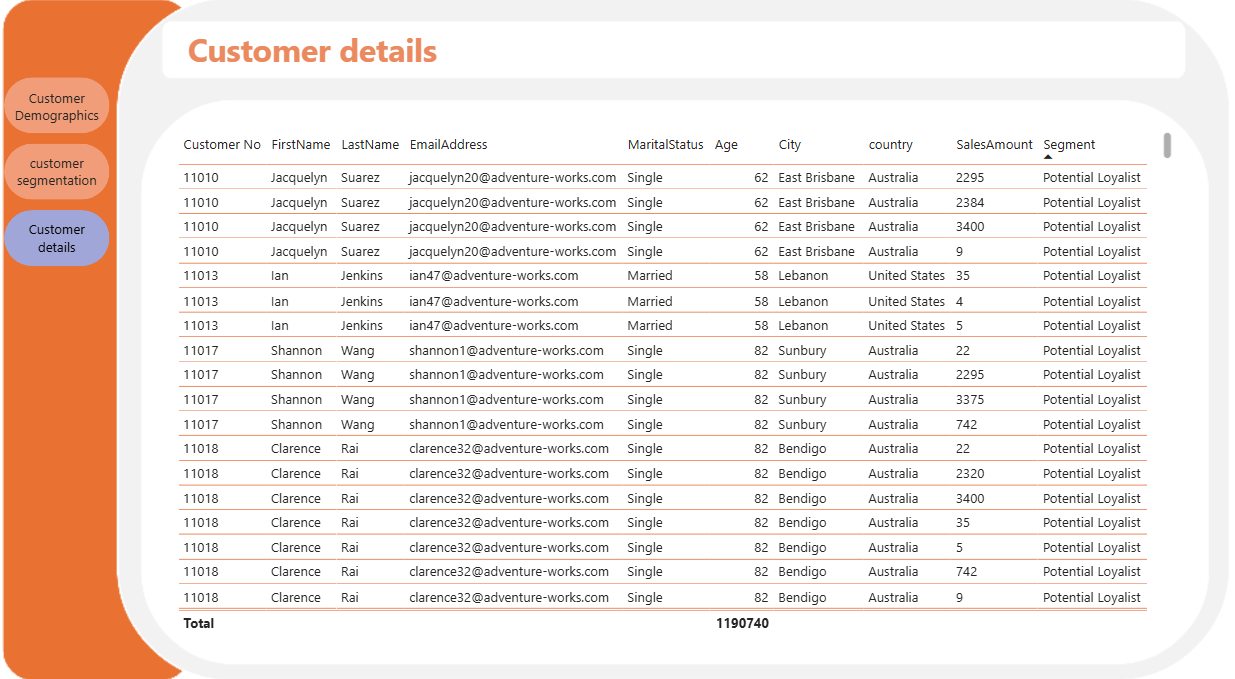

What the dashboard file says about the page in this screenshot:
{"tool":"powerbi","page":{"name":"Customer details","canvas":[1280,720],"ordinal":2},"visuals":[{"type":"textbox","box":[201.3,32.9,688.9,54.5],"z":0},{"type":"tableEx","fields":{"Values":["DimCustomer.CustomerKey","DimCustomer.FirstName","DimCustomer.LastName","DimCustomer.EmailAddress","DimCustomer.MaritalStatus","Sum(DimCustomer.Age)","DimGeography.City","DimGeography.country","FactInternetSales.SalesAmount","Segment table.Segment"]},"box":[191.2,138,1016.9,519.2],"z":1000},{"type":"pageNavigator","box":[20.3,87.4,107.6,193.7],"z":2000}]}

Visuals, with their boxes in screenshot pixels (x1, y1, x2, y2), scaled from the page's 1280x720 canvas onto the 1235x679 screenshot:
textbox: [left=194, top=31, right=859, bottom=82]
tableEx - DimCustomer.CustomerKey x DimCustomer.FirstName: [left=184, top=130, right=1166, bottom=620]
pageNavigator: [left=20, top=82, right=123, bottom=265]
